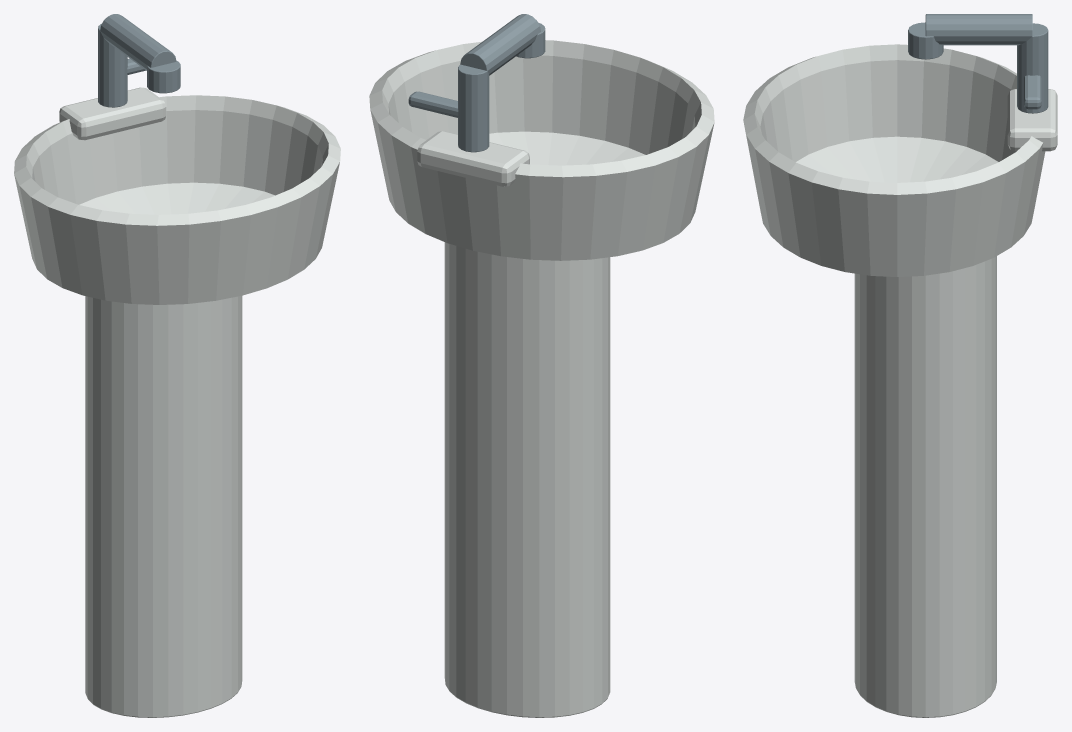
File: edited.glb
3 views of the same model, side by side, from view 1: azimuth 30°, elevation 25°; view 2: azimuth 150°, elevation 25°; view 3: azimuth 270°, elevation 25° (orthographic). The views are drawn at different scales.
Visible parts, largest first — view 1: PEDESTAL, BASIN_Hollow, FAUCET_Plinth, FAUCET_Spout, FAUCET_Stem, FAUCET_Nozzle; view 2: PEDESTAL, BASIN_Hollow, FAUCET_Plinth, FAUCET_Stem, FAUCET_Spout, TAP_Lever; view 3: PEDESTAL, BASIN_Hollow, FAUCET_Spout, FAUCET_Plinth, FAUCET_Stem, FAUCET_Nozzle, TAP_Lever.
Part boxes in pixels (x1,y1,x2,y2): PEDESTAL: (85, 295, 242, 717); BASIN_Hollow: (14, 95, 340, 304); FAUCET_Plinth: (59, 87, 166, 140); FAUCET_Spout: (100, 14, 176, 70); FAUCET_Stem: (98, 23, 127, 107); FAUCET_Nozzle: (147, 60, 180, 93); PEDESTAL: (444, 242, 610, 717); BASIN_Hollow: (369, 40, 714, 260); FAUCET_Plinth: (417, 131, 529, 186); FAUCET_Stem: (458, 64, 489, 152); FAUCET_Spout: (460, 14, 540, 75); TAP_Lever: (408, 91, 458, 117); PEDESTAL: (854, 256, 996, 717); BASIN_Hollow: (743, 44, 1045, 276); FAUCET_Spout: (925, 14, 1032, 45); FAUCET_Plinth: (1007, 89, 1057, 151); FAUCET_Stem: (1017, 23, 1048, 113); FAUCET_Nozzle: (908, 22, 943, 59); TAP_Lever: (1024, 75, 1041, 109).
Size of the model in its own units: 0.4968 by 1.03 by 0.441.
